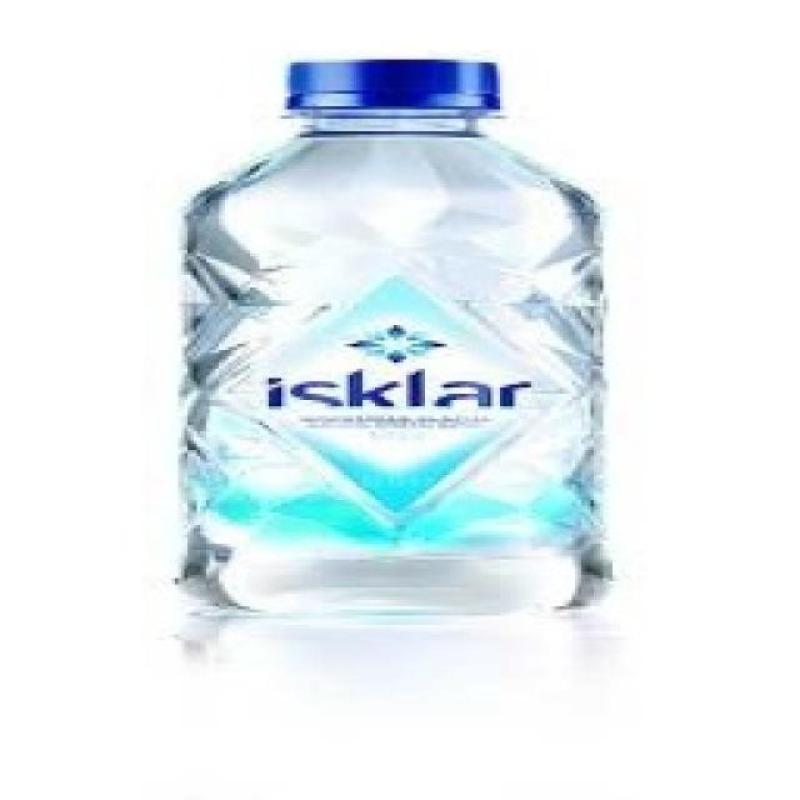botella: (184, 61, 614, 611)
